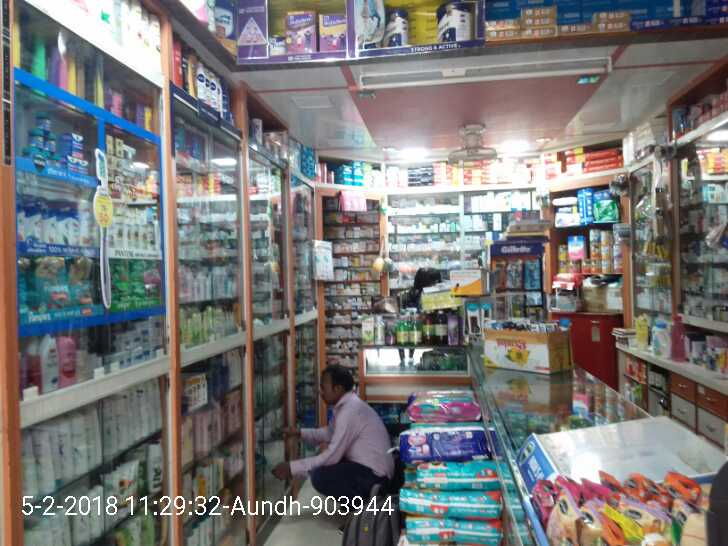vicks: (25, 112, 93, 167)
